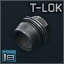SIG Sauer Taper-LOK muzzle adapter: (0, 0, 64, 64)
